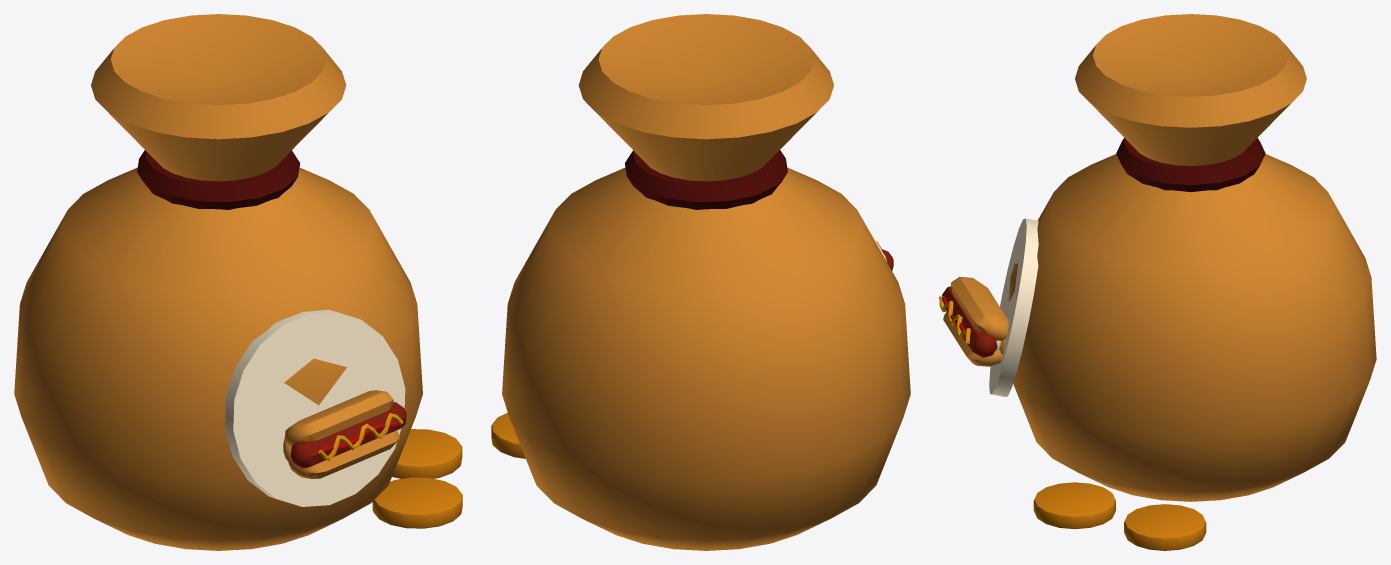
The model's file is MoneyBag.fbx.
3 views of the same model, side by side, from view 1: azimuth 30°, elevation 25°; view 2: azimuth 150°, elevation 25°; view 3: azimuth 270°, elevation 25° (orthographic). The views are drawn at different scales.
Visible parts, largest first — view 1: MoneyBag; view 2: MoneyBag; view 3: MoneyBag.
Boxes of the visible parts, x1,y1,x2,y2 form: MoneyBag: (14, 14, 462, 550); MoneyBag: (491, 14, 910, 550); MoneyBag: (939, 14, 1376, 550).
Size of the model in its own units: 1.63 by 1.7 by 1.7.
